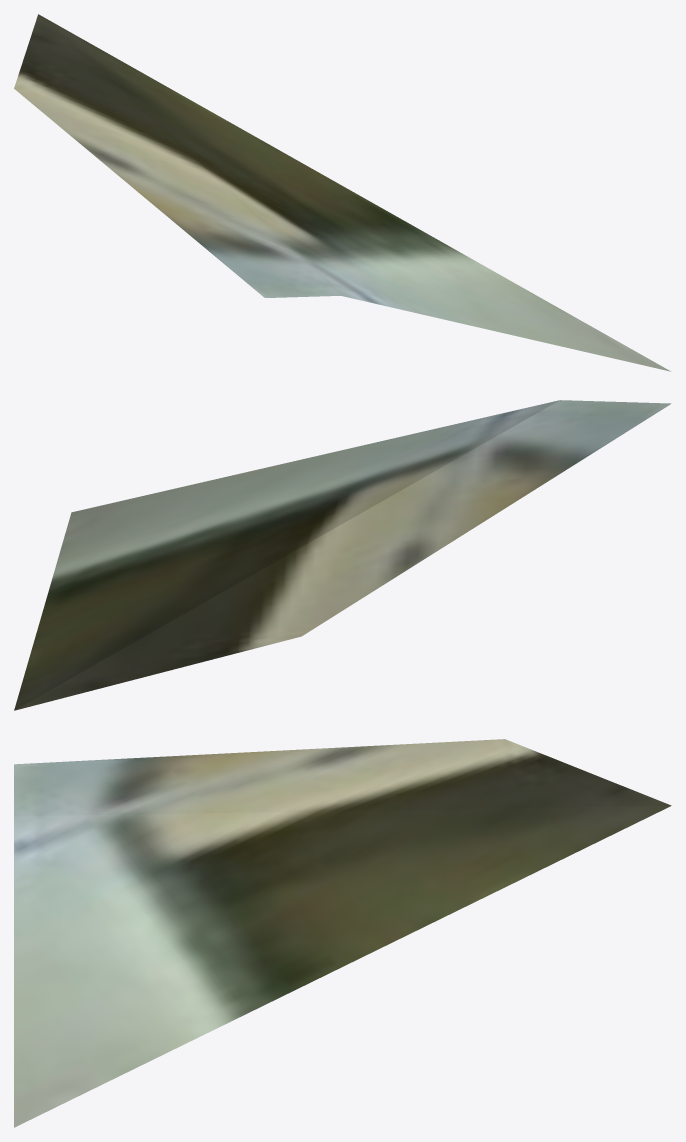
The picture shows the model from 3 angles, top to bottom: view 1: azimuth 30°, elevation 25°; view 2: azimuth 150°, elevation 25°; view 3: azimuth 270°, elevation 25°; orthographic projection. The views are drawn at different scales.
Size of the model in its own units: 0.8645 by 0.4037 by 1.24.
1 material, 1 textured.
